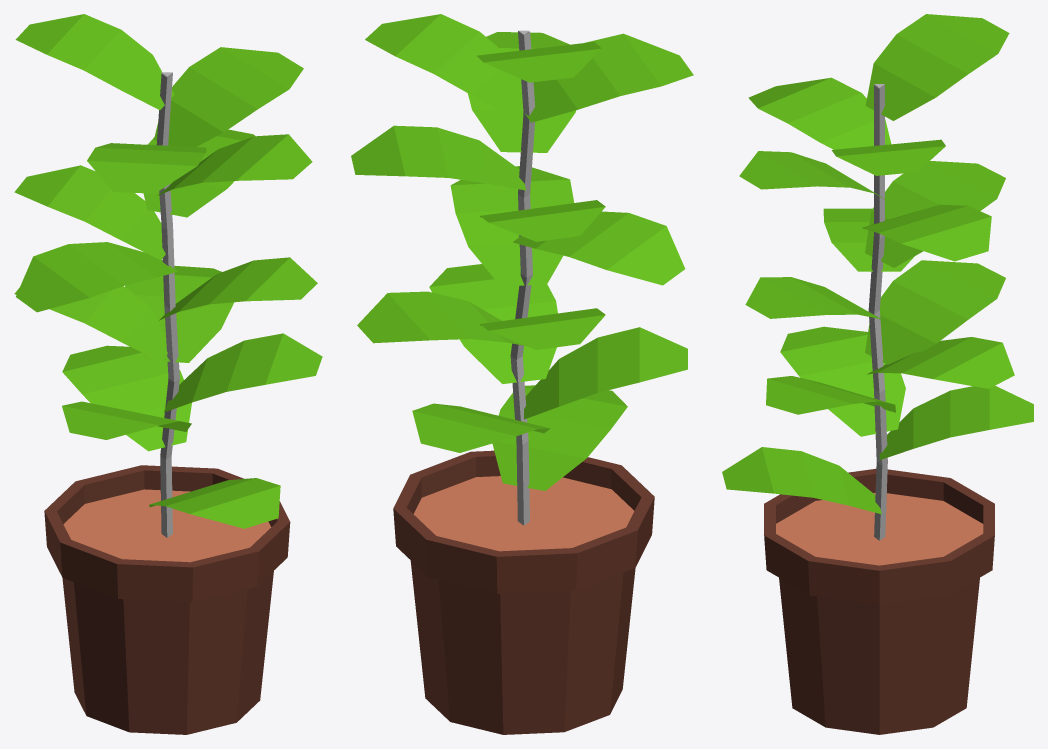
The model's file is Plant.fbx.
3 renders of one model, left to right at view 1: azimuth 30°, elevation 25°; view 2: azimuth 150°, elevation 25°; view 3: azimuth 270°, elevation 25°, orthographic. The views are drawn at different scales.
Visible parts, largest first — view 1: Plant; view 2: Plant; view 3: Plant.
Boxes of the visible parts, left/top/right/bottom form: Plant: left=14, top=14, right=322, bottom=734; Plant: left=351, top=14, right=693, bottom=734; Plant: left=722, top=14, right=1033, bottom=734.
Size of the model in its own units: 48.17 by 108 by 47.98.
Materials: 1 (1 with a texture image).
